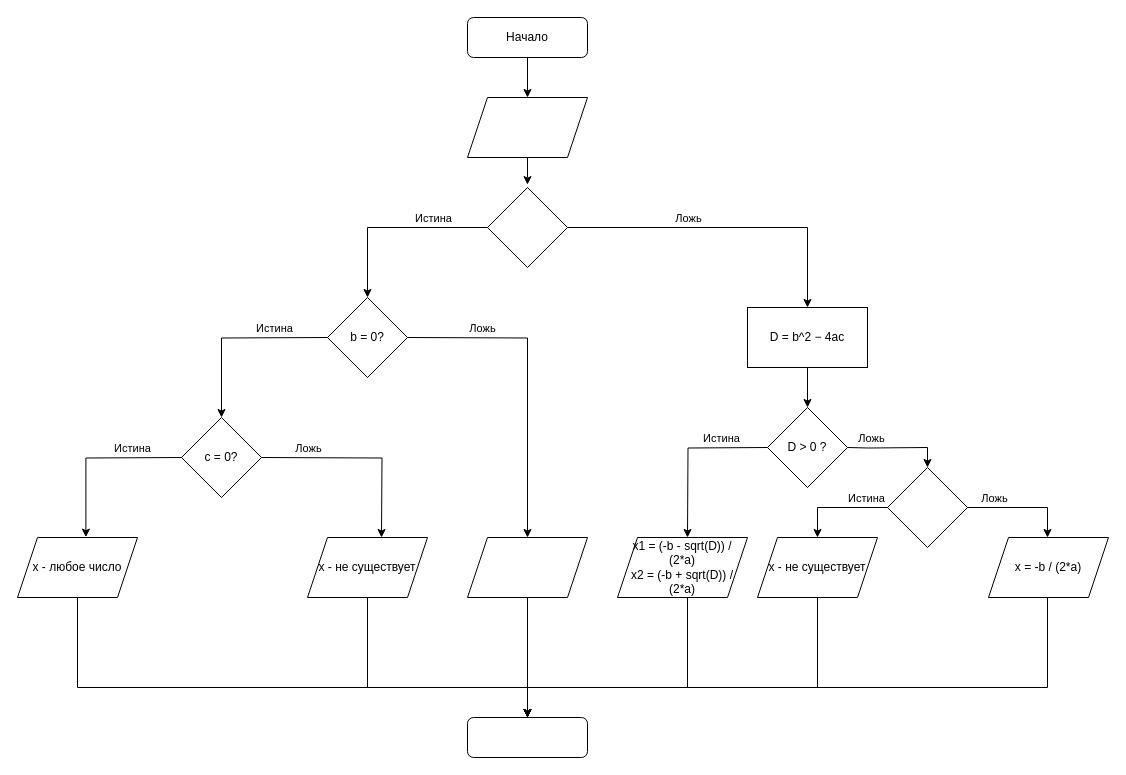
Image size: 1126x775. Some labels were removed from this diagram. Each missing label, with the centre of its shape:
"a = 0?" goes at (527,227).
"D < 0 ?" goes at (927,507).
"x = -c / b" goes at (527,567).
"Ввод a, b, c" goes at (527,127).
"Конец" goes at (527,737).
